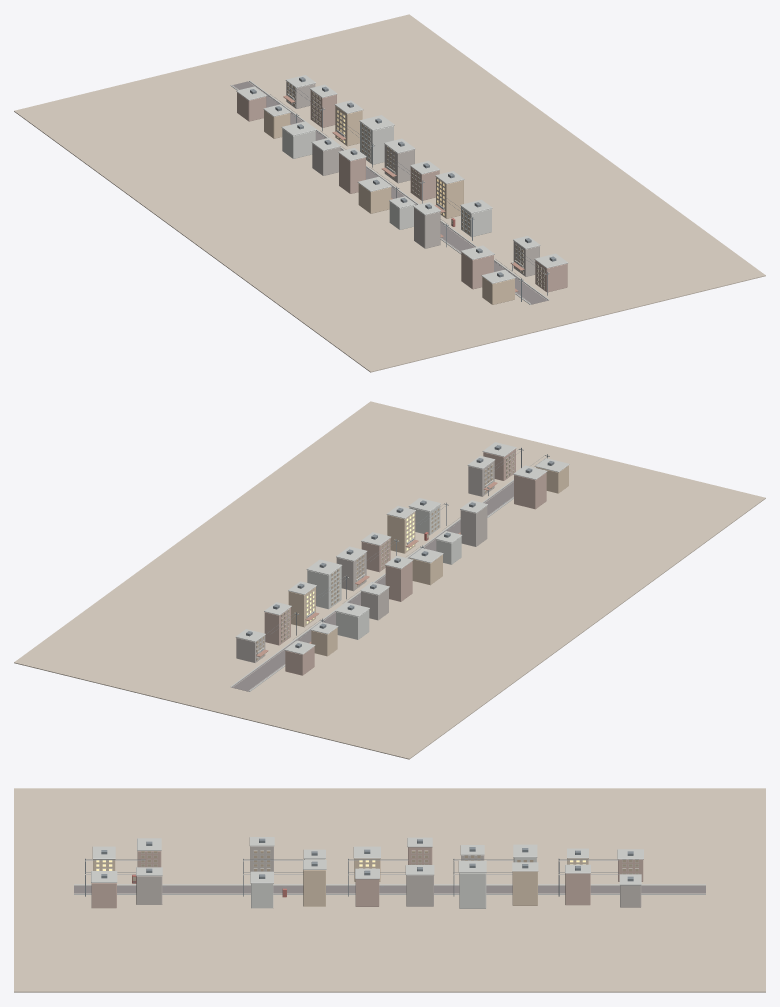
The model's file is city_morning_road.glb.
3 views of the same model, one above another, from view 1: azimuth 30°, elevation 25°; view 2: azimuth 150°, elevation 25°; view 3: azimuth 270°, elevation 25° (orthographic). The views are drawn at different scales.
Parts seen in each view (by area): view 1: Static.Pavement, Static.Concrete, Static.Wall.peach, Static.Wall.cream, Static.Wall.silver, Static.Wall.ivory, Static.Asphalt, Static.Frame, Static.Steel, Static.Window; view 2: Static.Pavement, Static.Concrete, Static.Wall.peach, Static.Wall.silver, Static.Wall.cream, Static.Wall.ivory, Static.Asphalt, Static.Frame, Static.Steel, Static.Window; view 3: Static.Pavement, Static.Concrete, Static.Asphalt, Static.Wall.peach, Static.Wall.silver, Static.Wall.cream, Static.Steel, Static.Wall.ivory, Static.Frame, Static.Line, Static.Window.
Boxes of the visible parts, x1,y1,x2,y2 form: Static.Pavement: (14,14,765,372); Static.Concrete: (230,75,567,304); Static.Wall.peach: (237,90,567,292); Static.Wall.cream: (264,106,514,304); Static.Wall.silver: (286,81,539,276); Static.Wall.ivory: (282,122,491,237); Static.Asphalt: (232,81,547,304); Static.Frame: (287,82,549,289); Static.Steel: (250,77,556,301); Static.Window: (287,82,544,288); Static.Pavement: (14,401,765,759); Static.Concrete: (230,442,569,691); Static.Wall.peach: (264,449,546,675); Static.Wall.silver: (236,461,494,662); Static.Wall.cream: (288,465,568,656); Static.Wall.ivory: (307,505,461,639); Static.Asphalt: (232,481,513,691); Static.Frame: (256,448,549,660); Static.Steel: (246,445,554,648); Static.Window: (256,453,513,660); Static.Pavement: (14,788,765,992); Static.Concrete: (74,837,705,894); Static.Asphalt: (74,885,705,893); Static.Wall.peach: (91,847,643,908); Static.Wall.silver: (136,846,641,907); Static.Wall.cream: (93,858,588,906); Static.Steel: (85,838,633,896); Static.Wall.ivory: (251,857,536,908); Static.Frame: (85,850,638,878); Static.Line: (74,885,705,893); Static.Window: (132,851,638,880).
Size of the model in its own units: 64 by 6.07 by 100.
